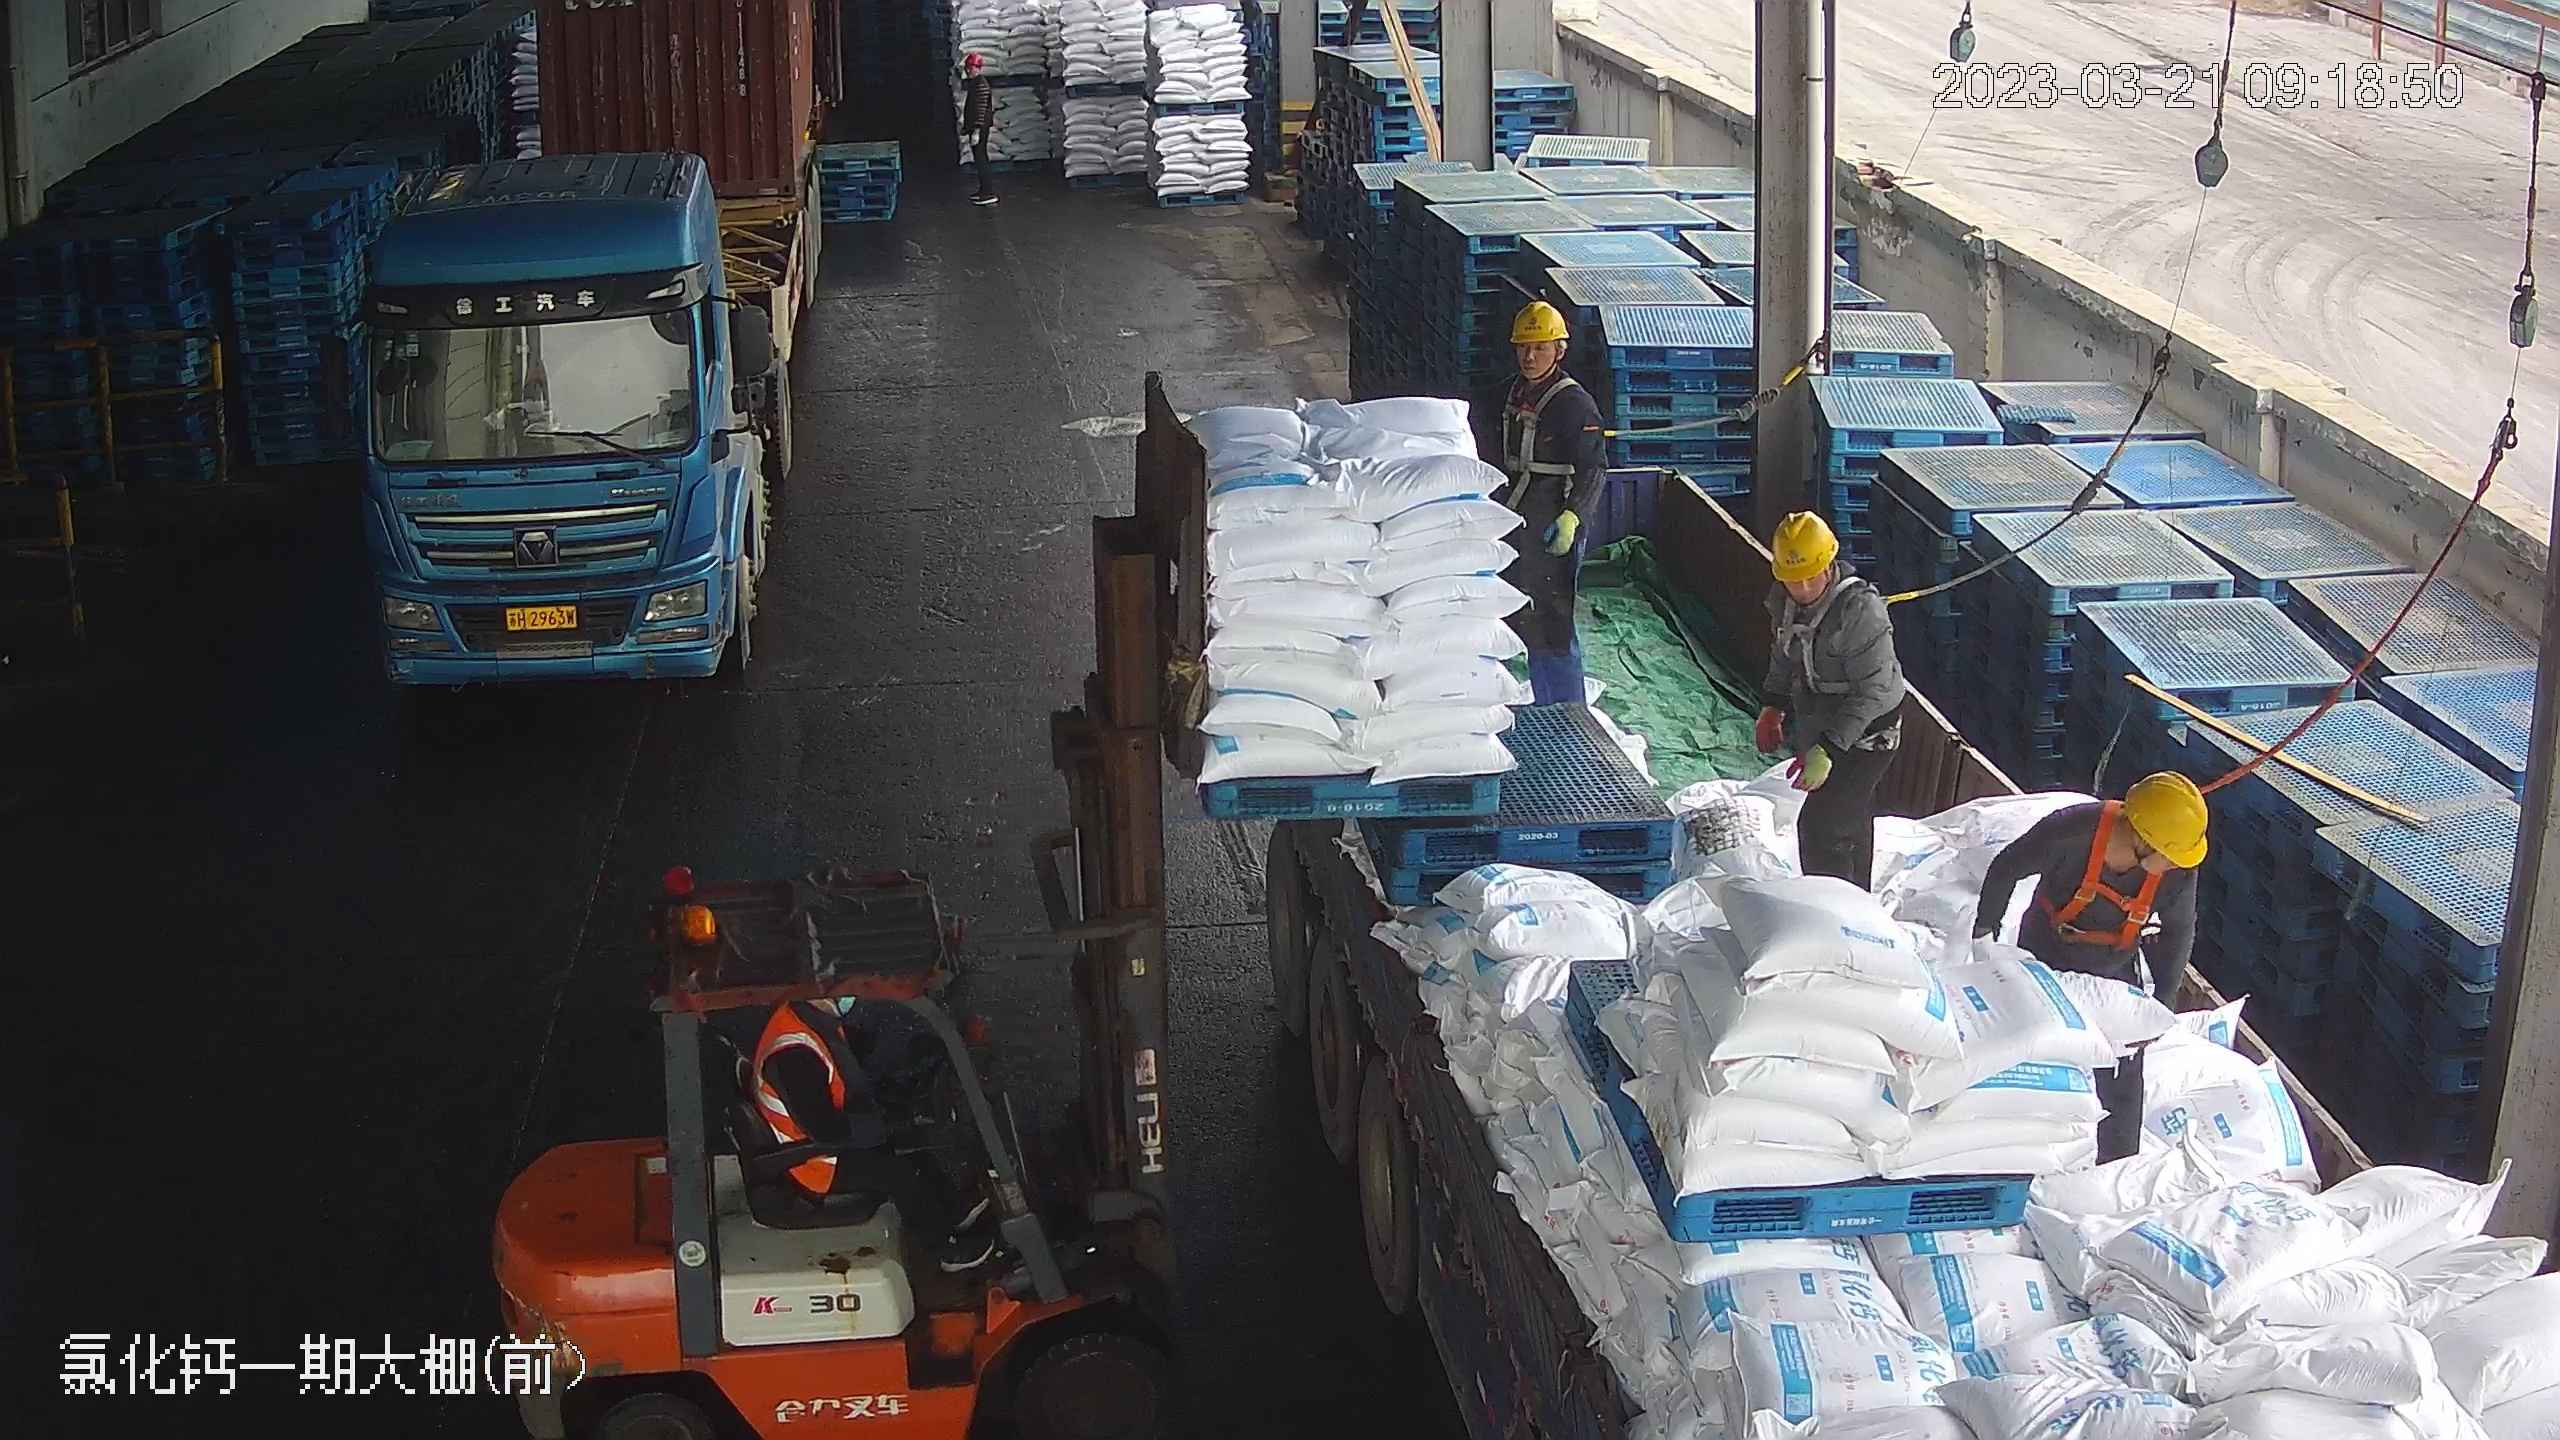belt: (2045, 794, 2174, 945), (1773, 566, 1910, 699), (1504, 374, 1605, 470)
head: (2027, 770, 2214, 905), (1759, 506, 1884, 640), (1495, 295, 1603, 424), (957, 47, 996, 93)
helmet: (2122, 768, 2208, 868), (1767, 505, 1840, 578), (1506, 296, 1569, 343), (962, 49, 985, 67)
people: (1967, 764, 2208, 1169), (740, 992, 994, 1280), (1751, 506, 1894, 890), (1480, 299, 1605, 718), (954, 38, 997, 200)
truck: (1189, 458, 2560, 1440), (323, 1, 830, 690)
